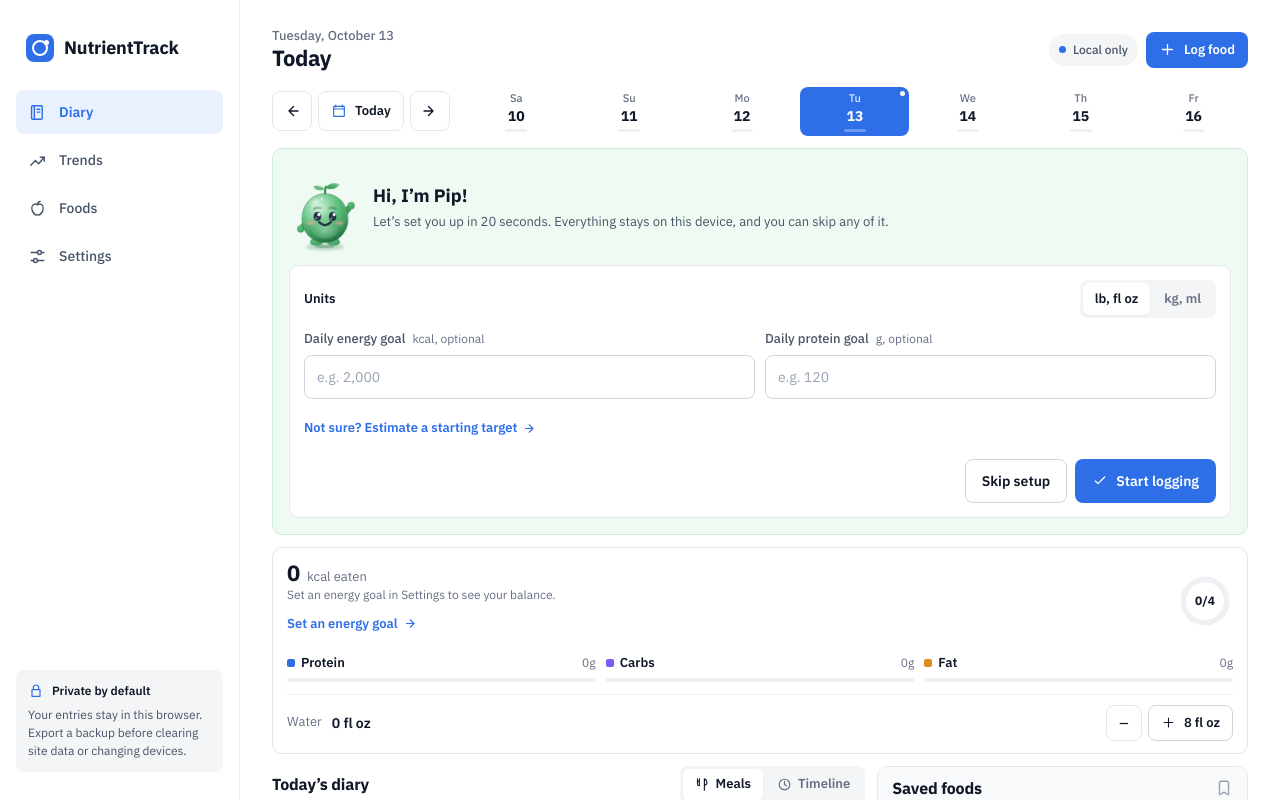
Test: water row › saves 237 ml under the viewed date and then shows 8 fl oz
Click the button with aria-label "Add 8 fl oz of water".
click(1190, 723)  # box [1148,705,1233,741]
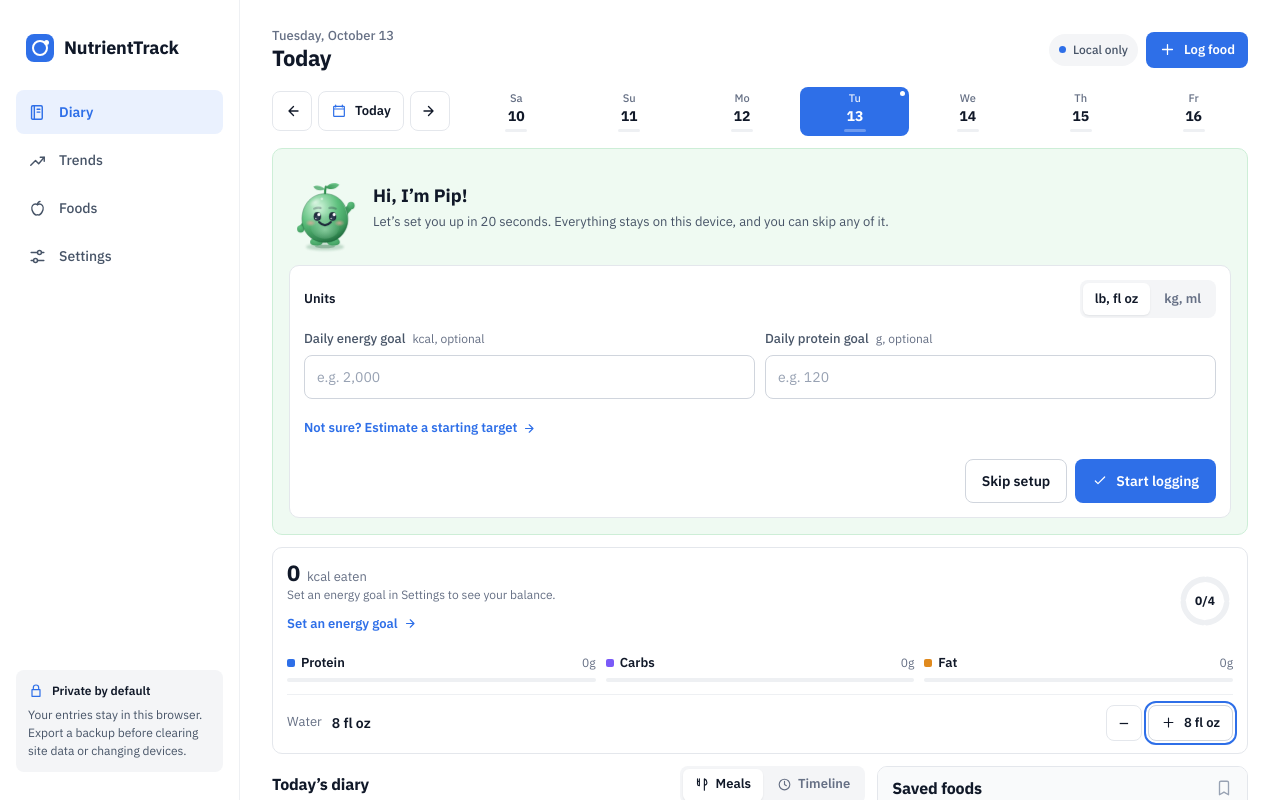
Check: the button named "Remove 8 fl oz of water" is enabled, box [1106,705,1142,741]
Check: the text with class "water-value" reads "8 fl oz", box [332,714,371,732]
